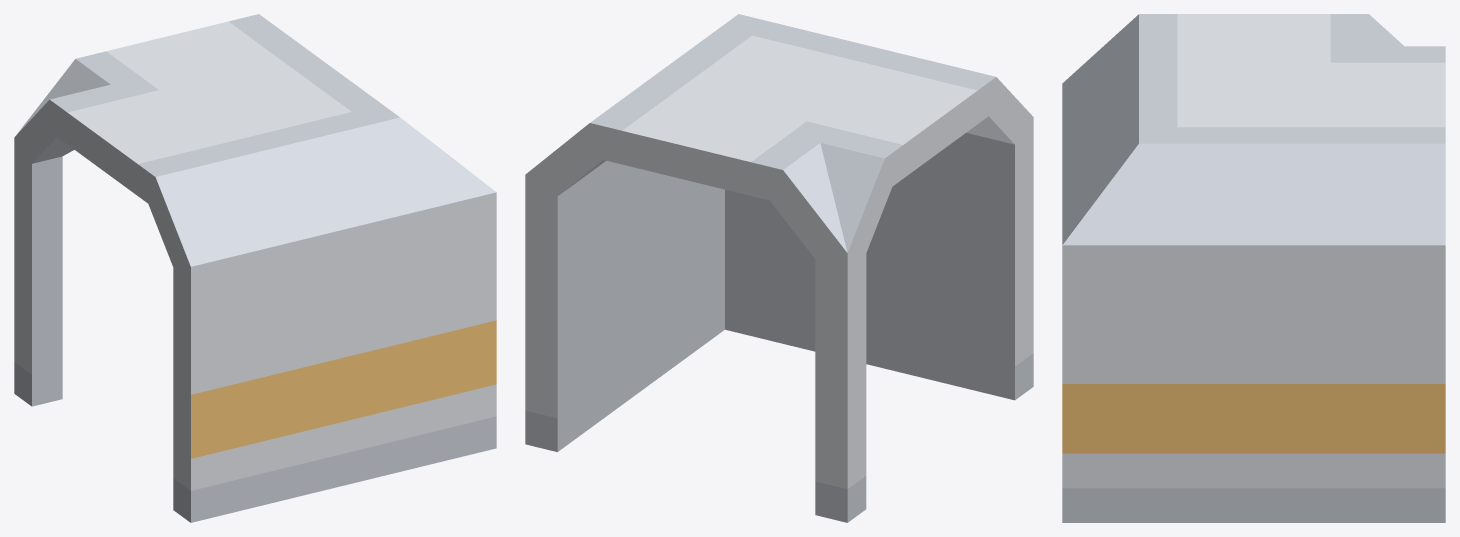
The model's file is corridor_corner.glb.
The picture shows the model from 3 angles, left to right: view 1: azimuth 30°, elevation 25°; view 2: azimuth 150°, elevation 25°; view 3: azimuth 270°, elevation 25°; orthographic projection. The views are drawn at different scales.
Parts seen in each view (by area): view 1: corridor_corner; view 2: corridor_corner; view 3: corridor_corner.
Boxes of the visible parts, x1,y1,x2,y2 form: corridor_corner: [14, 14, 496, 522]; corridor_corner: [525, 14, 1033, 522]; corridor_corner: [1062, 14, 1445, 522].
Bounding box in the file's own units: 1 × 1 × 1.
